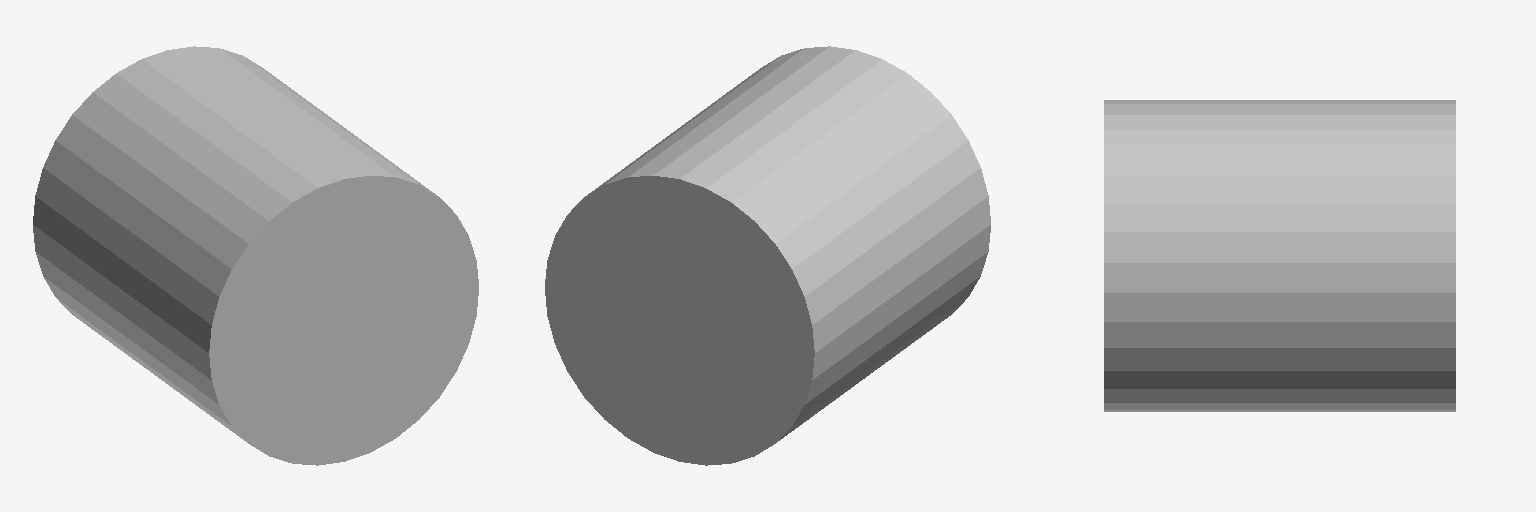
The model's file is modified_cylinder.obj.
3 renders of one model, left to right at view 1: azimuth 30°, elevation 25°; view 2: azimuth 150°, elevation 25°; view 3: azimuth 270°, elevation 25°, orthographic.
Parts seen in each view (by area): view 1: Cylinder_Cylinder; view 2: Cylinder_Cylinder; view 3: Cylinder_Cylinder.
Part boxes in pixels (x1,y1,x2,y2): Cylinder_Cylinder: (33, 46, 478, 465); Cylinder_Cylinder: (545, 46, 990, 465); Cylinder_Cylinder: (1104, 100, 1455, 411).
Bounding box in the file's own units: 4.24 × 4.24 × 4.8.